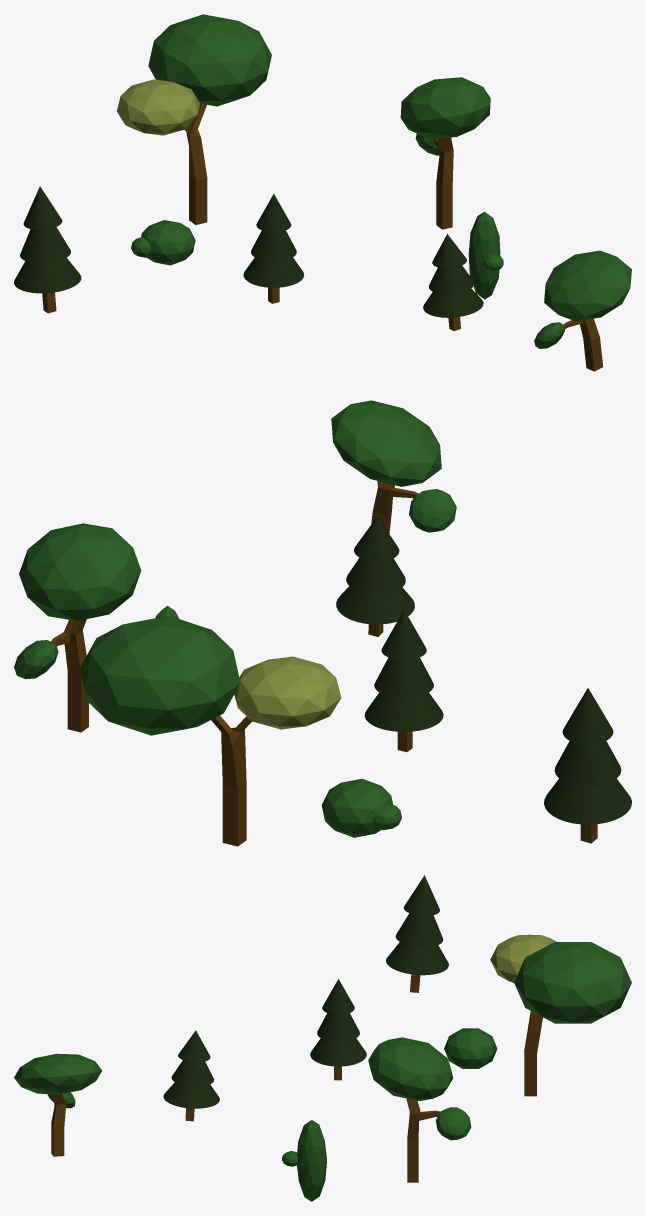
Rendered from forest-trees.glb.
3 renders of one model, top to bottom at view 1: azimuth 30°, elevation 25°; view 2: azimuth 150°, elevation 25°; view 3: azimuth 270°, elevation 25°, orthographic. The views are drawn at different scales.
Visible parts, largest first — view 1: crown2, treecrown1.001, treecrown1, crown1, bush1.001, largetrunk, bush1, pinetreetop1.002, treetrunk, pinetreetop1, pinetreetop2.002, pinetreetop1.001 (+7 smaller); view 2: crown2, treecrown1, treecrown1.001, crown1, largetrunk, pinetreetop1.002, bush1, pinetreetop1, pinetreetop2.002, treetrunk, pinetreetop1.001, pinetreetop2 (+7 smaller); view 3: crown2, treecrown1, treecrown1.001, bush1.001, bush1, crown1, pinetreetop1.002, pinetreetop1, pinetreetop2.002, treetrunk, largetrunk, pinetreetop1.001 (+7 smaller).
Boxes of the visible parts, box(x1,y1,x2,y2) form: crown2: box(148, 14, 271, 106); treecrown1.001: box(544, 250, 631, 321); treecrown1: box(400, 77, 490, 138); crown1: box(117, 79, 200, 135); bush1.001: box(468, 211, 500, 299); largetrunk: box(184, 103, 207, 224); bush1: box(141, 220, 195, 265); pinetreetop1.002: box(14, 258, 81, 293); treetrunk: box(433, 137, 453, 229); pinetreetop1: box(243, 257, 304, 287); pinetreetop2.002: box(20, 227, 70, 263); pinetreetop1.001: box(423, 288, 483, 317); crown2: box(80, 616, 240, 735); treecrown1: box(19, 523, 141, 620); treecrown1.001: box(331, 400, 441, 486); crown1: box(234, 656, 341, 729); largetrunk: box(211, 715, 251, 846); pinetreetop1.002: box(544, 778, 631, 824); bush1: box(321, 778, 393, 837); pinetreetop1: box(364, 692, 443, 731); pinetreetop2.002: box(554, 741, 621, 786); treetrunk: box(51, 619, 88, 732); pinetreetop1.001: box(336, 586, 414, 624); pinetreetop2: box(374, 657, 433, 697); crown2: box(514, 942, 631, 1023); treecrown1: box(368, 1037, 453, 1101); treecrown1.001: box(14, 1053, 102, 1094); bush1.001: box(297, 1120, 326, 1201); bush1: box(444, 1028, 497, 1068); crown1: box(490, 934, 556, 982); pinetreetop1.002: box(386, 942, 448, 975); pinetreetop1: box(310, 1038, 366, 1066); pinetreetop2.002: box(395, 913, 443, 947); treetrunk: box(406, 1098, 440, 1182); largetrunk: box(524, 1011, 542, 1096); pinetreetop1.001: box(163, 1082, 219, 1108).
Size of the model in its own units: 21.94 by 9.38 by 27.13.
